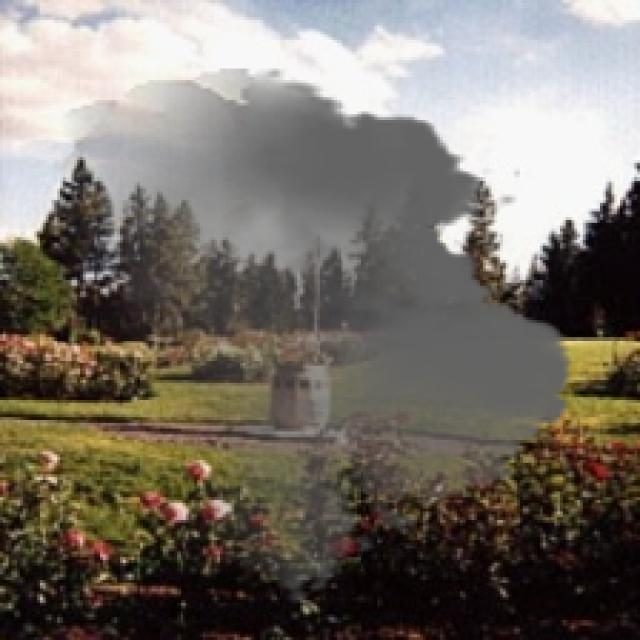Smoke: (34, 69, 592, 606)
